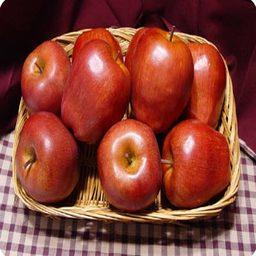apple: (60, 39, 130, 143), (127, 26, 193, 125), (95, 121, 163, 215), (12, 117, 80, 208), (161, 121, 228, 213), (19, 38, 70, 116)
